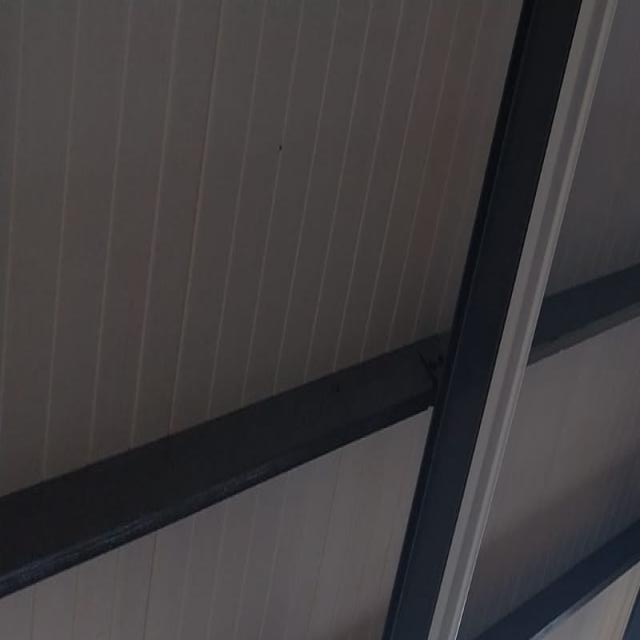fluorescent tube: (402, 0, 628, 640)
